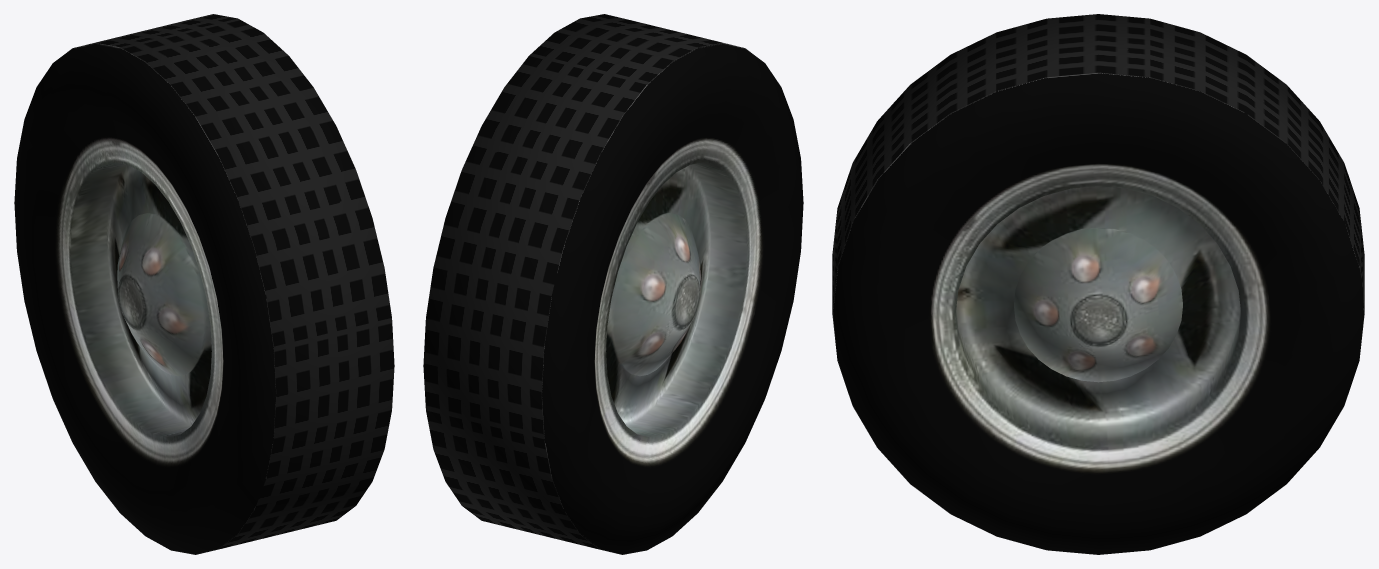
File: truck_wheel.obj
3 views of the same model, side by side, from view 1: azimuth 30°, elevation 25°; view 2: azimuth 150°, elevation 25°; view 3: azimuth 270°, elevation 25° (orthographic).
Visible parts, largest first — view 1: Cylinder; view 2: Cylinder; view 3: Cylinder.
Boxes of the visible parts, x1,y1,x2,y2 form: Cylinder: (14, 14, 394, 554); Cylinder: (423, 14, 803, 554); Cylinder: (832, 14, 1364, 554).
Size of the model in its own units: 0.65 by 2 by 2.
1 material, 1 textured.
